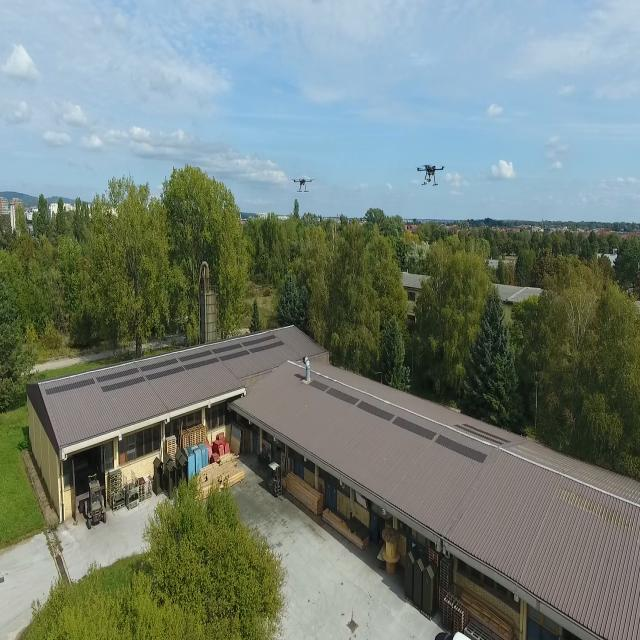UAV: (413, 157, 446, 190), (291, 171, 315, 193)
